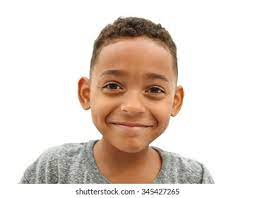person: (77, 16, 184, 155)
